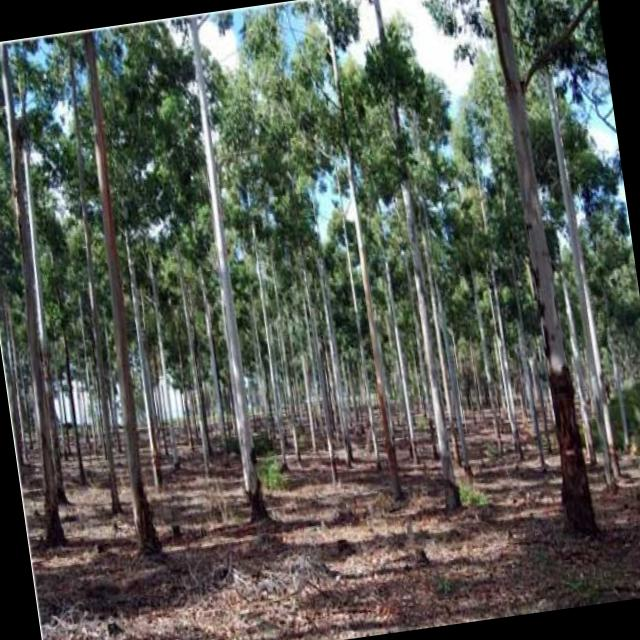Medicinal-Sandalwood: (441, 0, 640, 544), (268, 0, 468, 503), (156, 7, 325, 554), (62, 23, 210, 558), (0, 36, 115, 557)
